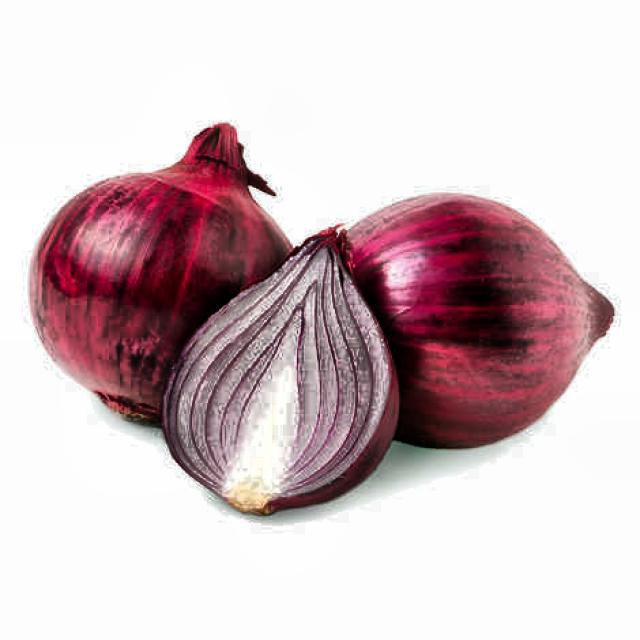onion: (20, 98, 625, 506)
